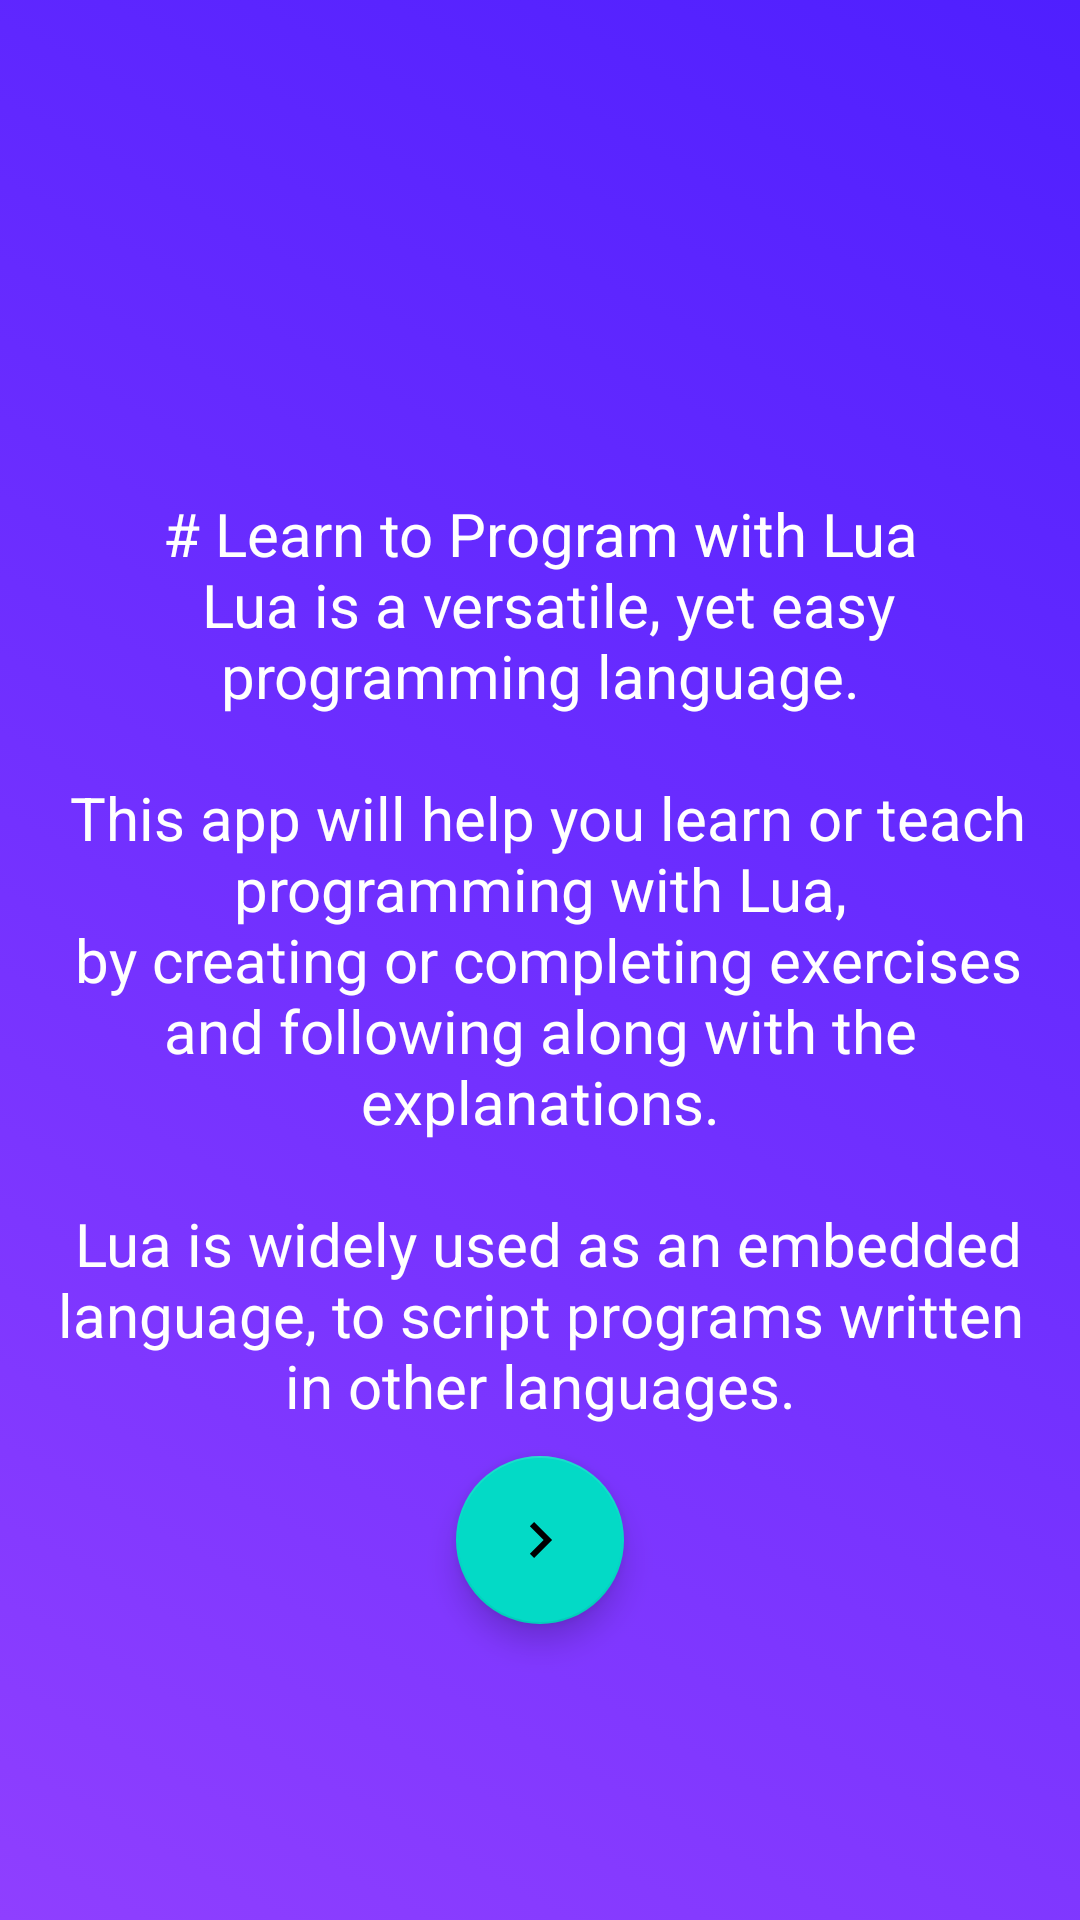

Screen size 1080x1920. Icon name, then its center in pixels as (x=x, y=y):
Continue to app: (x=540, y=1540)
